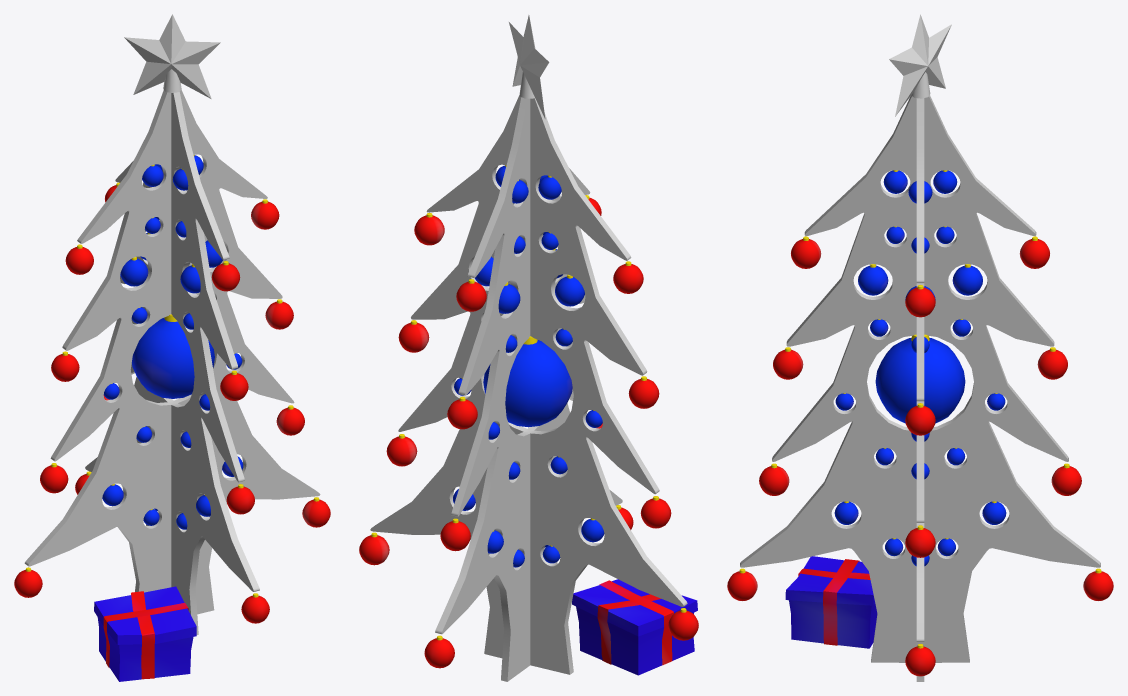
Rendered from christmas_tree.fbx.
The picture shows the model from 3 angles, left to right: view 1: azimuth 30°, elevation 25°; view 2: azimuth 150°, elevation 25°; view 3: azimuth 270°, elevation 25°; orthographic projection. The views are drawn at different scales.
Parts seen in each view (by area): view 1: Tree2, Balls_2_noel, Gift, Star; view 2: Tree2, Balls_2_noel, Gift, Star; view 3: Tree2, Balls_2_noel, Gift, Star.
Part boxes in pixels (x1=…): Tree2: x1=24, y1=90, x2=320, y2=634; Balls_2_noel: x1=14, y1=155, x2=330, y2=623; Gift: x1=94, y1=586, x2=196, y2=681; Star: x1=124, y1=14, x2=220, y2=98; Tree2: x1=370, y1=95, x2=687, y2=681; Balls_2_noel: x1=359, y1=165, x2=698, y2=668; Gift: x1=572, y1=579, x2=697, y2=675; Star: x1=509, y1=15, x2=549, y2=118; Tree2: x1=740, y1=95, x2=1100, y2=681; Balls_2_noel: x1=727, y1=170, x2=1113, y2=676; Gift: x1=785, y1=556, x2=877, y2=648; Star: x1=889, y1=14, x2=951, y2=116.
Bounding box in the file's own units: 98.77 × 183 × 98.77.
